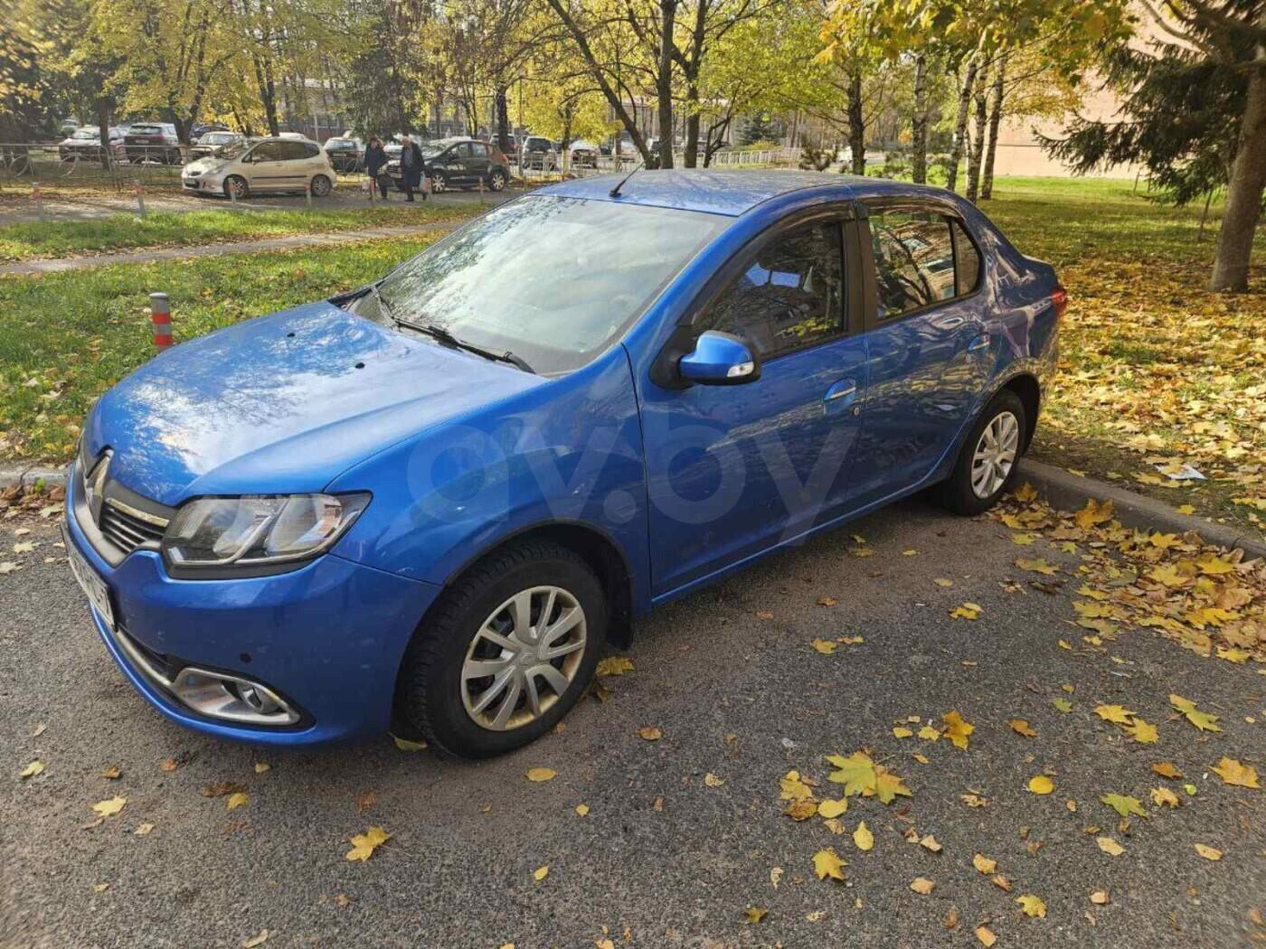Logan_2013-2018: (52, 156, 1077, 784)
